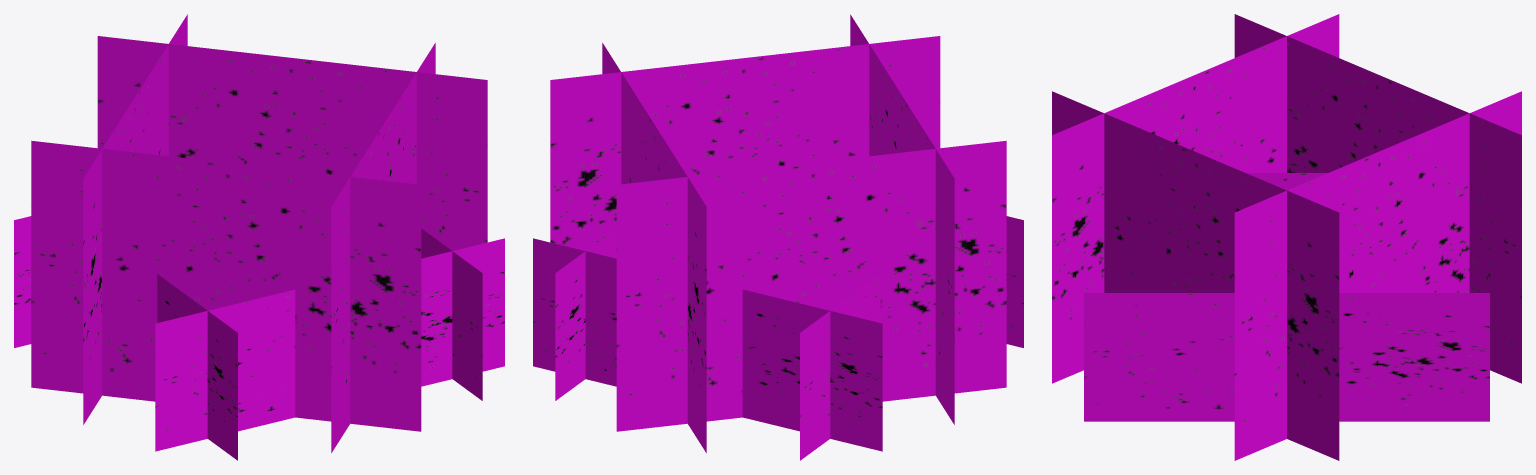
The model's file is sfx_ct0125_always04.glb.
3 renders of one model, left to right at view 1: azimuth 30°, elevation 25°; view 2: azimuth 150°, elevation 25°; view 3: azimuth 270°, elevation 25°, orthographic.
Parts seen in each view (by area): view 1: sfx_ct0125_always04_obj6, sfx_ct0125_always04_obj2, sfx_ct0125_always04_obj5, sfx_ct0125_always04_obj8, sfx_ct0125_always04_obj4, sfx_ct0125_always04_obj7, sfx_ct0125_always04_obj3, sfx_ct0125_always04_obj1; view 2: sfx_ct0125_always04_obj8, sfx_ct0125_always04_obj4, sfx_ct0125_always04_obj1, sfx_ct0125_always04_obj6, sfx_ct0125_always04_obj2, sfx_ct0125_always04_obj7, sfx_ct0125_always04_obj3, sfx_ct0125_always04_obj5; view 3: sfx_ct0125_always04_obj3, sfx_ct0125_always04_obj2, sfx_ct0125_always04_obj4, sfx_ct0125_always04_obj6, sfx_ct0125_always04_obj8, sfx_ct0125_always04_obj7.
Part boxes in pixels (box(x1,y1,x2,y2)): sfx_ct0125_always04_obj6: box(31, 140, 421, 431); sfx_ct0125_always04_obj2: box(97, 36, 487, 250); sfx_ct0125_always04_obj5: box(155, 238, 504, 451); sfx_ct0125_always04_obj8: box(83, 14, 187, 424); sfx_ct0125_always04_obj4: box(331, 43, 435, 452); sfx_ct0125_always04_obj7: box(157, 274, 237, 460); sfx_ct0125_always04_obj3: box(421, 228, 482, 400); sfx_ct0125_always04_obj1: box(14, 216, 31, 347); sfx_ct0125_always04_obj8: box(616, 140, 1006, 431); sfx_ct0125_always04_obj4: box(550, 36, 940, 250); sfx_ct0125_always04_obj1: box(533, 238, 882, 451); sfx_ct0125_always04_obj6: box(850, 14, 954, 424); sfx_ct0125_always04_obj2: box(602, 43, 706, 452); sfx_ct0125_always04_obj7: box(800, 274, 880, 460); sfx_ct0125_always04_obj3: box(555, 228, 616, 400); sfx_ct0125_always04_obj5: box(1006, 216, 1023, 347); sfx_ct0125_always04_obj3: box(1084, 293, 1489, 421); sfx_ct0125_always04_obj2: box(1234, 91, 1521, 460); sfx_ct0125_always04_obj4: box(1052, 91, 1339, 460); sfx_ct0125_always04_obj6: box(1052, 14, 1339, 383); sfx_ct0125_always04_obj8: box(1234, 14, 1521, 383); sfx_ct0125_always04_obj7: box(1246, 173, 1327, 190).
Size of the model in its own units: 1.16 by 0.675 by 1.16.
Materials: 1 (1 with a texture image).
